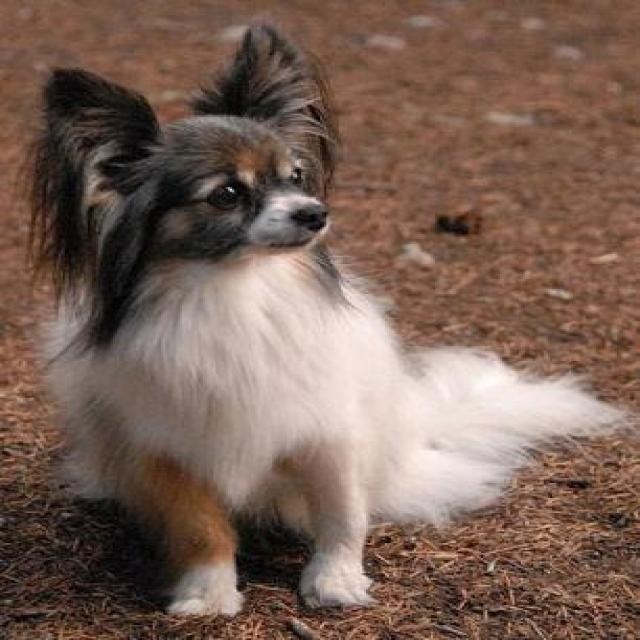papillon: (16, 9, 630, 618)
